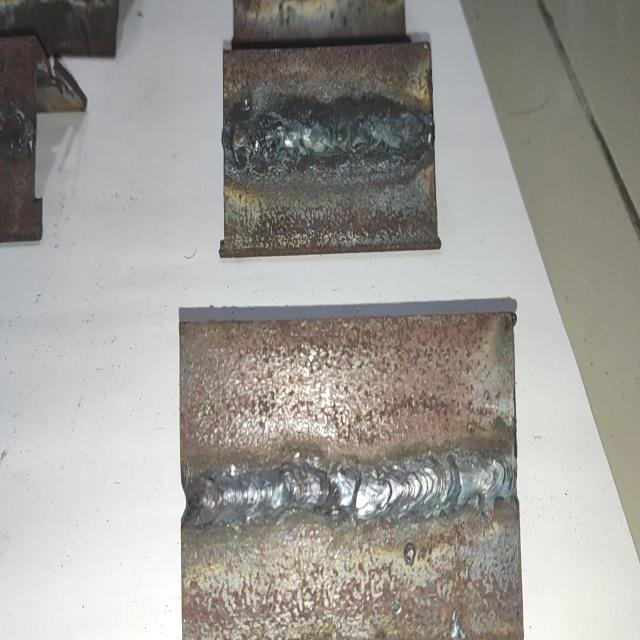Bad Weld: (230, 110, 430, 163)
Defect: (229, 101, 311, 168)
Good Weld: (185, 451, 515, 522)
